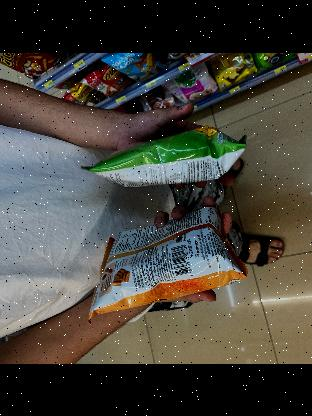Others: (86, 196, 250, 326), (84, 121, 250, 195)
